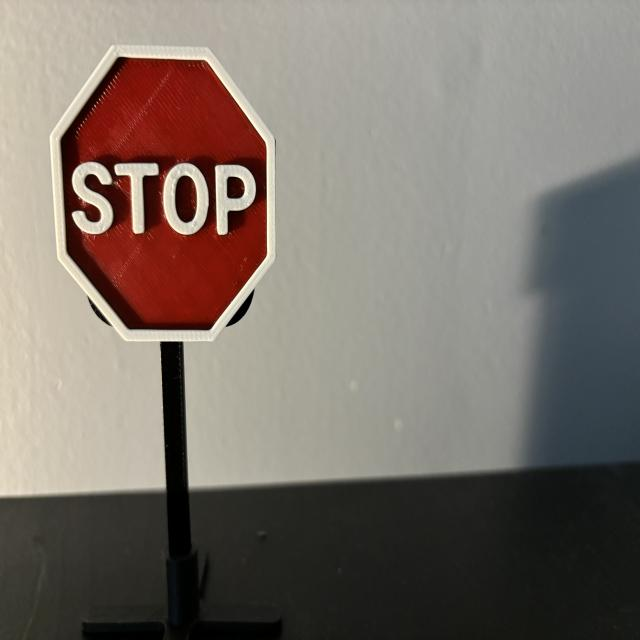sign_stop: (50, 46, 276, 342)
